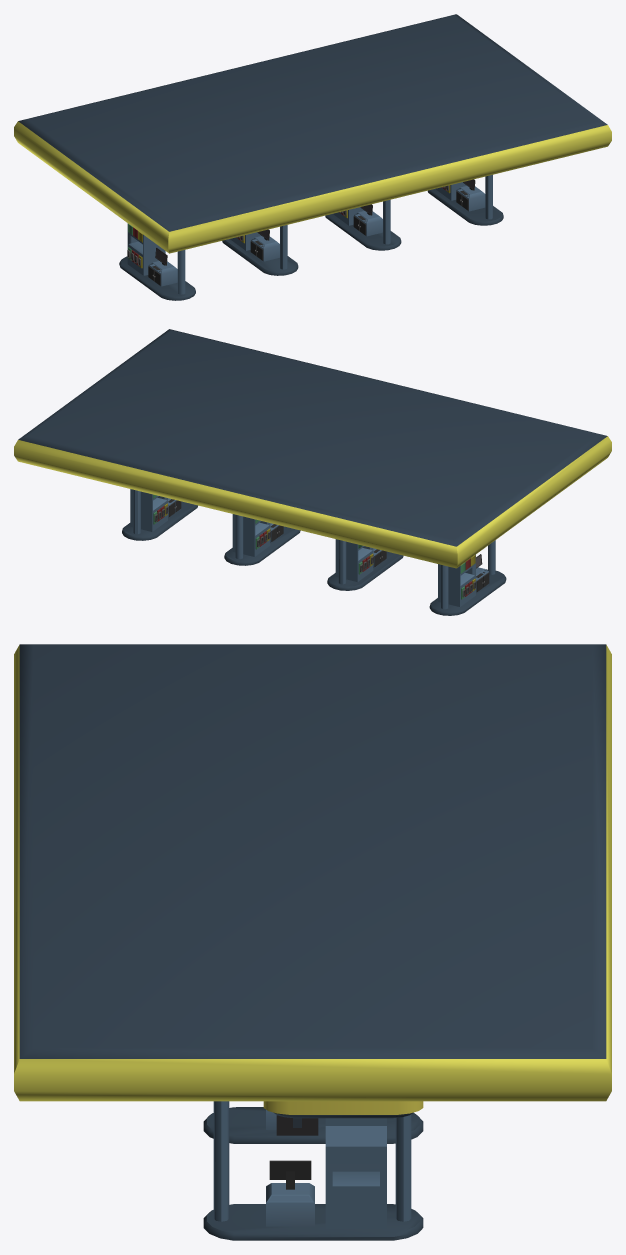
File: Posto_G.fbx
3 renders of one model, top to bottom at view 1: azimuth 30°, elevation 25°; view 2: azimuth 150°, elevation 25°; view 3: azimuth 270°, elevation 25°, orthographic. The views are drawn at different scales.
Parts seen in each view (by area): view 1: Posto.G; view 2: Posto.G; view 3: Posto.G.
Part boxes in pixels (bbox=[...]): Posto.G: bbox=[14, 14, 611, 300]; Posto.G: bbox=[14, 329, 611, 615]; Posto.G: bbox=[14, 644, 611, 1240].
Bounding box in the file's own units: 2603 × 677 × 1568.
